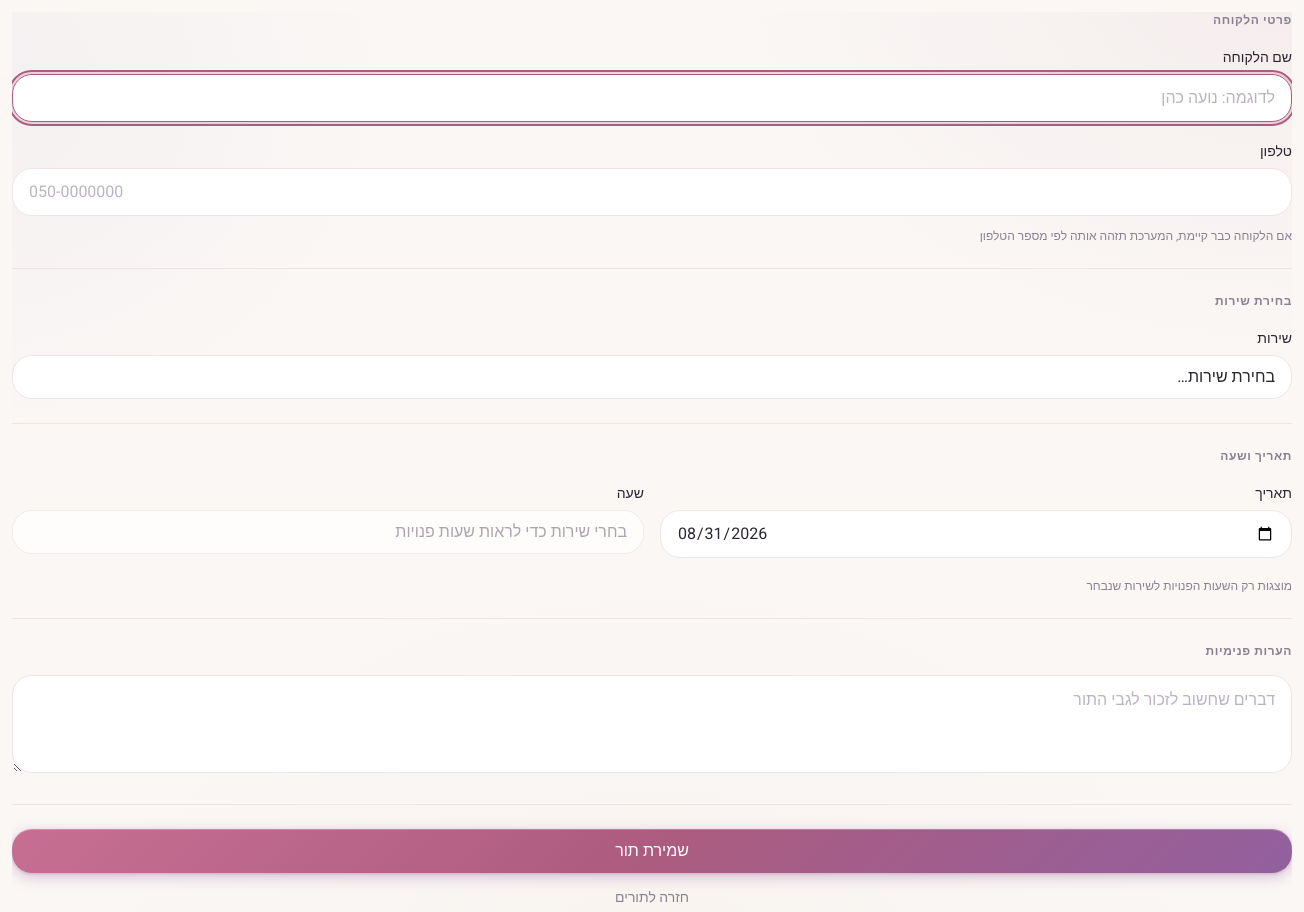
it: BookingForm — service selection + slots › shows the service summary (duration + price) when a service is selected
Select "מניקור ג'ל" in the dropdown labelled "שירות". click: (652, 377)
box: [12,355,1292,399]
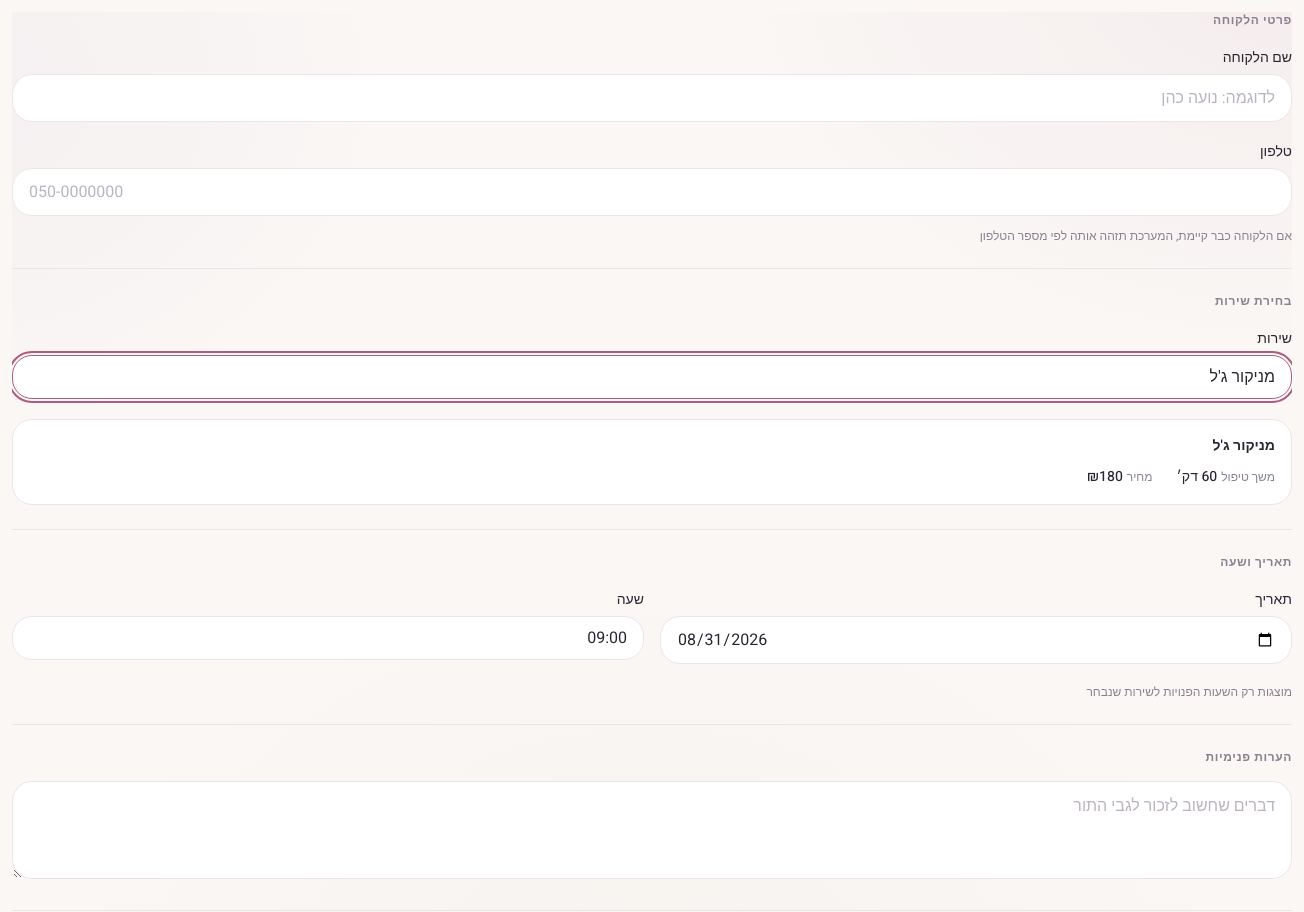
Check: the text "משך טיפול" is shown, box [1221,468,1275,486]
Check: the text "₪180" is shown, box [1087,466,1123,487]
